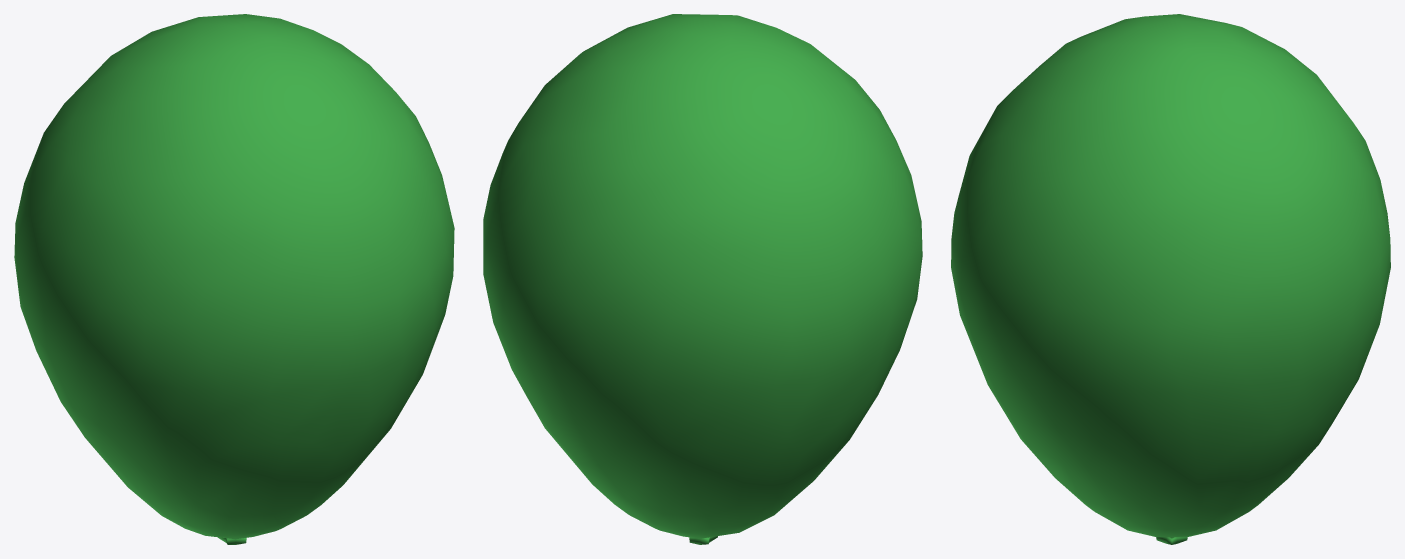
File: BalloonGreen.fbx
3 renders of one model, left to right at view 1: azimuth 30°, elevation 25°; view 2: azimuth 150°, elevation 25°; view 3: azimuth 270°, elevation 25°, orthographic.
Parts seen in each view (by area): view 1: Balloon; view 2: Balloon; view 3: Balloon.
Part boxes in pixels (x1,y1,x2,y2): Balloon: (14, 14, 454, 544); Balloon: (483, 14, 922, 544); Balloon: (951, 14, 1390, 544).
Bounding box in the file's own units: 95.69 × 122 × 95.56.
1 material, 1 textured.
